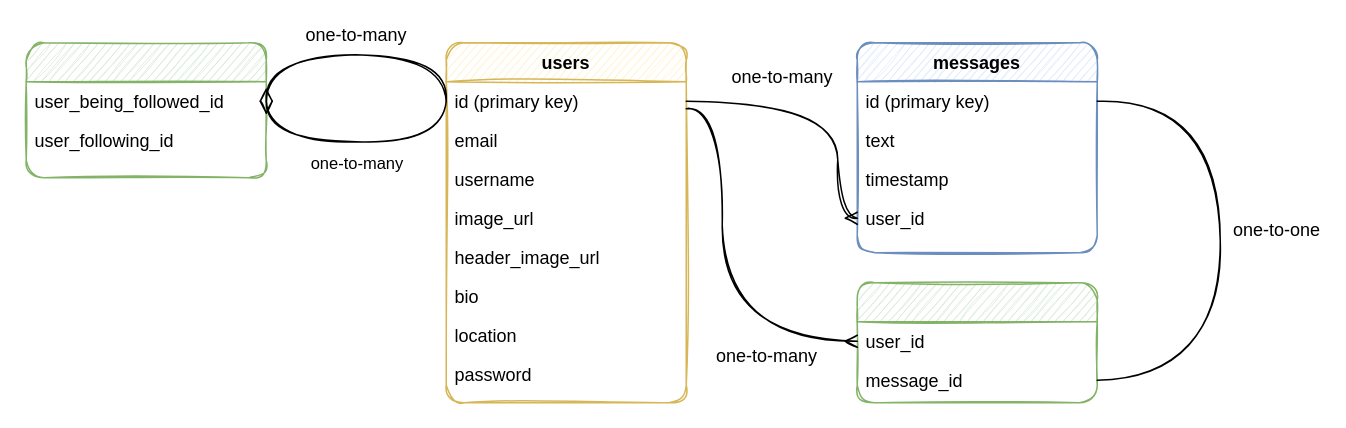
Some shapes in this 1346 by 428 pixel diagram are drawn without their labels. The box of each missing label's shape, as (x1, y1, x2, y2) in pixels:
follows: (25, 41, 266, 178)
likes: (856, 281, 1097, 403)
